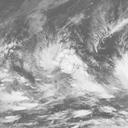cyclone: (32, 40, 94, 101), (114, 53, 127, 89)
